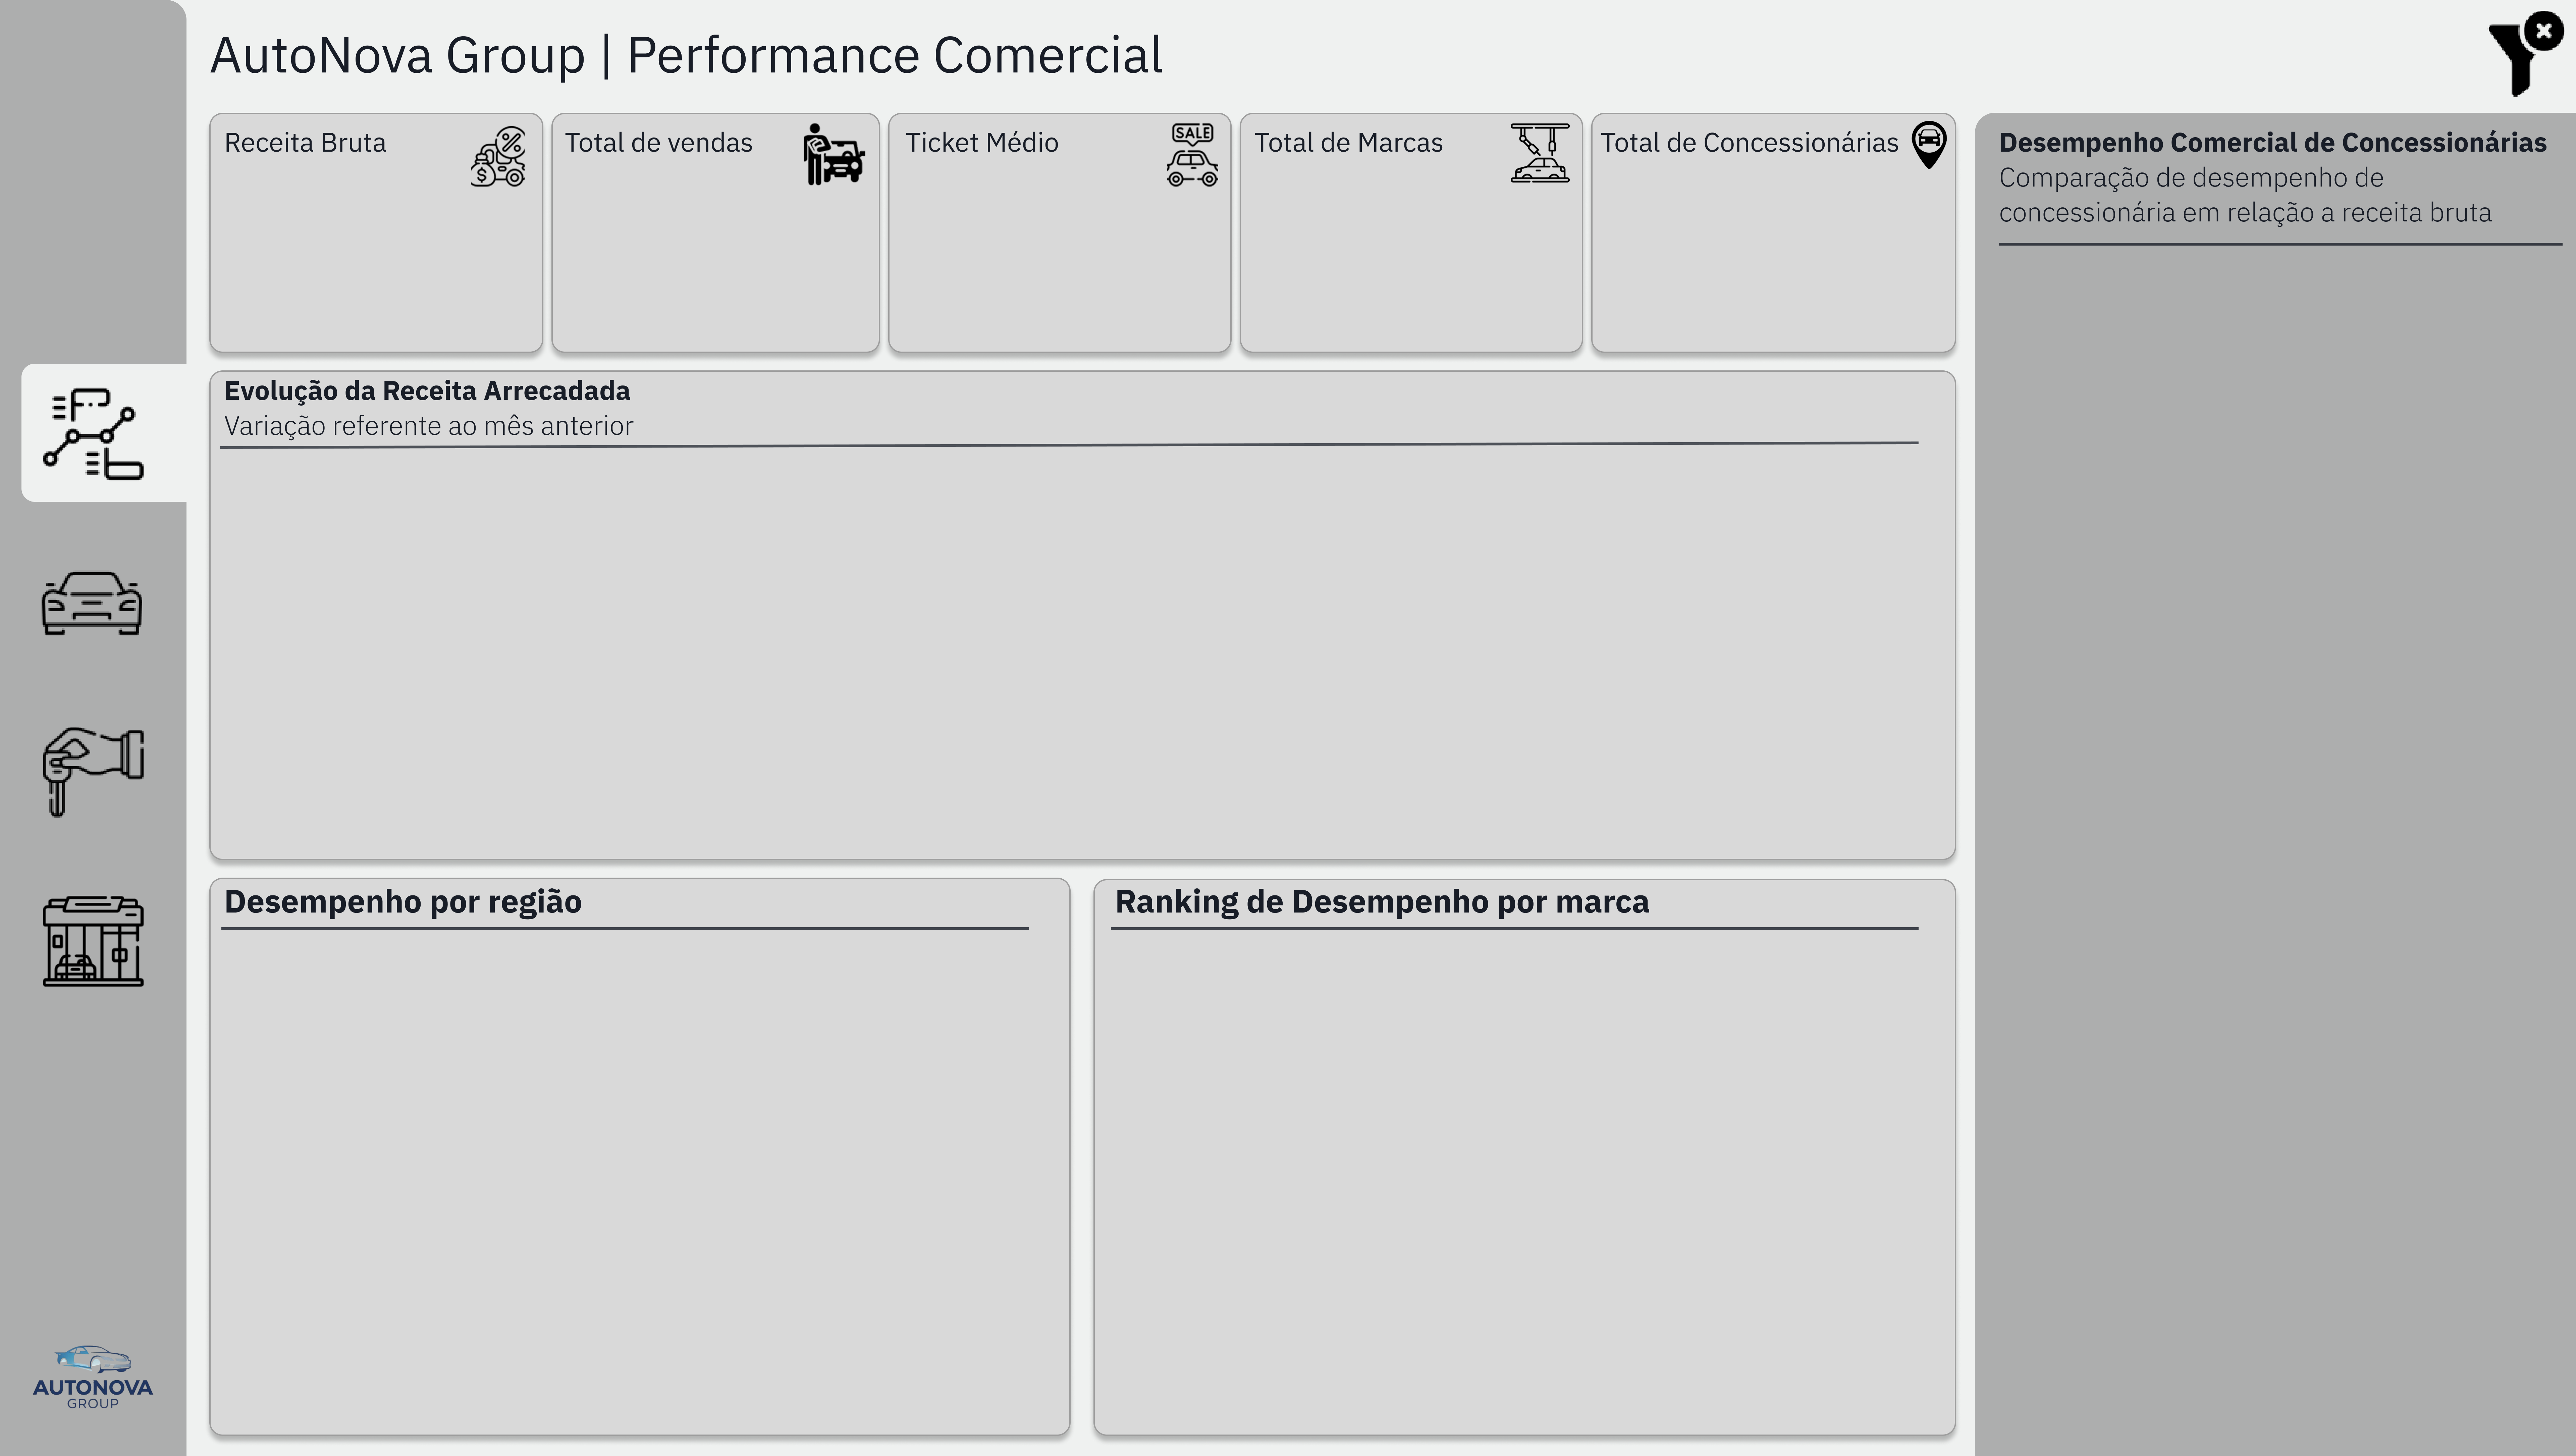

What the dashboard file says about the page in this screenshot:
{"tool":"powerbi","page":{"name":"Performance Comercial","canvas":[1920,1080],"ordinal":1},"visuals":[{"type":"cardVisual","fields":{"Data":["Metricas/KPIs.Receita Bruta"]},"box":[381.9,0,279.5,279.5],"z":0},{"type":"cardVisual","fields":{"Data":["Metricas/KPIs.Qte. Vendida"]},"box":[740.3,0,281.6,279.5],"z":1},{"type":"cardVisual","fields":{"Data":["Metricas/KPIs.Ticket Médio"]},"box":[1094.4,0,279.5,281.6],"z":2},{"type":"lineChart","fields":{"Category":["car_sales.data_compra.Variation.Hierarquia de datas.Mês"],"Y":["Metricas/KPIs.Receita Bruta"]},"box":[381.9,302.9,992,349.9],"z":3},{"type":"barChart","fields":{"Category":["car_sales.empresa"],"Y":["Metricas/KPIs.Receita Bruta"]},"box":[881.1,672,492.8,390.4],"z":4},{"type":"columnChart","fields":{"Category":["car_sales.regiao_concessionaria"],"Y":["Metricas/KPIs.Receita Bruta"]},"box":[381.9,672,492.8,390.4],"z":5},{"type":"advancedSlicerVisual","fields":{"Values":["car_sales.data_compra.Variation.Hierarquia de datas.Ano"]},"box":[1094.4,281.6,266.7,89.6],"z":6},{"type":"advancedSlicerVisual","fields":{"Values":["car_sales.concessionaria"]},"box":[1418.1,303.2,501.1,759],"z":7},{"type":"textbox","box":[1418.1,0,501.1,279.6],"z":8}]}

Visuals, with their boxes on the page's 1920x1080 design canvas (x1, y1, x2, y2). These are canvas units, not pixel positions in the 2576x1456 screenshot, which may show the page scaled, cropped or inside an application window:
cardVisual - Metricas/KPIs.Receita Bruta: bbox=[382, 0, 661, 280]
cardVisual - Metricas/KPIs.Qte. Vendida: bbox=[740, 0, 1022, 280]
cardVisual - Metricas/KPIs.Ticket Médio: bbox=[1094, 0, 1374, 282]
lineChart - car_sales.data_compra.Variation.Hierarquia de datas.Mês x Metricas/KPIs.Receita Bruta: bbox=[382, 303, 1374, 653]
barChart - car_sales.empresa x Metricas/KPIs.Receita Bruta: bbox=[881, 672, 1374, 1062]
columnChart - car_sales.regiao_concessionaria x Metricas/KPIs.Receita Bruta: bbox=[382, 672, 875, 1062]
advancedSlicerVisual - car_sales.data_compra.Variation.Hierarquia de datas.Ano: bbox=[1094, 282, 1361, 371]
advancedSlicerVisual - car_sales.concessionaria: bbox=[1418, 303, 1919, 1062]
textbox: bbox=[1418, 0, 1919, 280]
